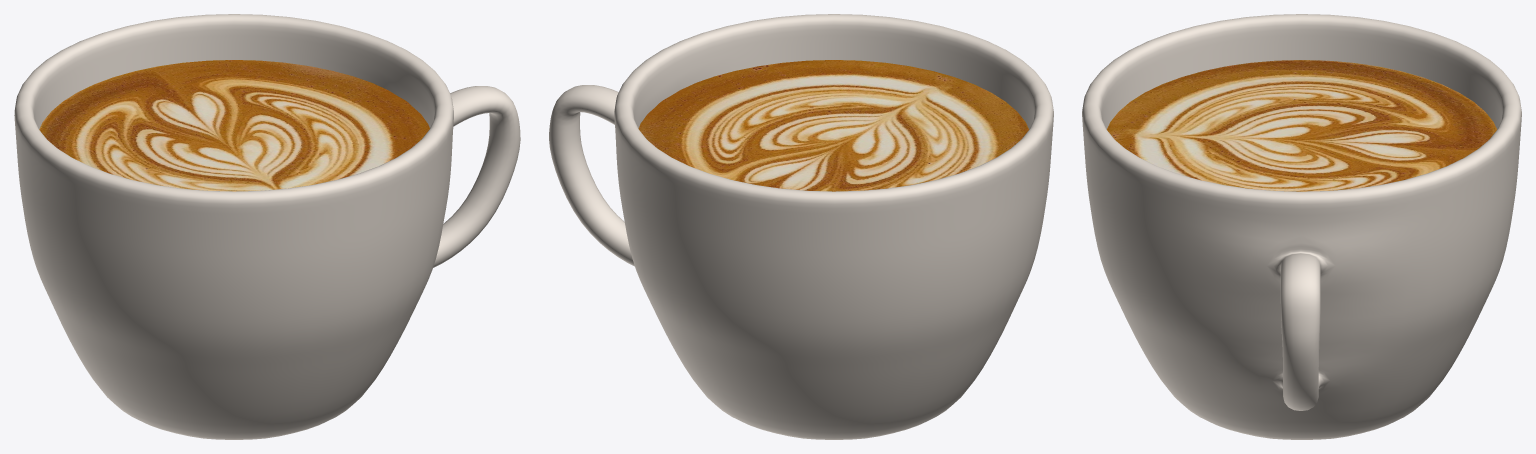
The model's file is coffee.gltf.
The picture shows the model from 3 angles, left to right: view 1: azimuth 30°, elevation 25°; view 2: azimuth 150°, elevation 25°; view 3: azimuth 270°, elevation 25°; orthographic projection.
Parts seen in each view (by area): view 1: Cylinder.004, Circle.004; view 2: Cylinder.004, Circle.004; view 3: Cylinder.004, Circle.004.
Boxes of the visible parts, box(x1,y1,x2,y2) form: Cylinder.004: box(14, 14, 520, 439); Circle.004: box(39, 60, 429, 191); Cylinder.004: box(549, 14, 1053, 439); Circle.004: box(638, 60, 1028, 191); Cylinder.004: box(1082, 14, 1521, 439); Circle.004: box(1107, 60, 1496, 191).
Bounding box in the file's own units: 2.94 × 1.76 × 2.37.
Materials: 2 (1 with a texture image).
